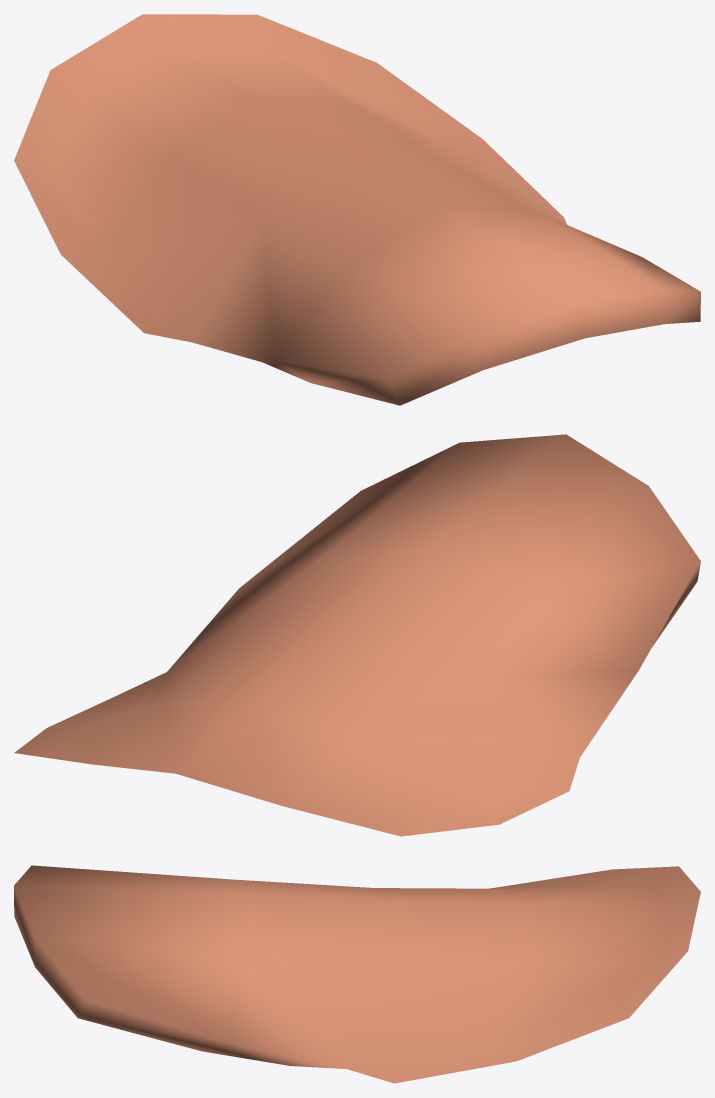
The model's file is orta-oval-deneme2.obj.
3 views of the same model, one above another, from view 1: azimuth 30°, elevation 25°; view 2: azimuth 150°, elevation 25°; view 3: azimuth 270°, elevation 25° (orthographic). The views are drawn at different scales.
Parts seen in each view (by area): view 1: 3._finger_oval_Female_Hand.006; view 2: 3._finger_oval_Female_Hand.006; view 3: 3._finger_oval_Female_Hand.006.
Part boxes in pixels (x1=…): 3._finger_oval_Female_Hand.006: x1=14, y1=14, x2=700, y2=405; 3._finger_oval_Female_Hand.006: x1=14, y1=434, x2=700, y2=836; 3._finger_oval_Female_Hand.006: x1=14, y1=865, x2=700, y2=1083.
Size of the model in its own units: 0.0944 by 0.0286 by 0.1563.
